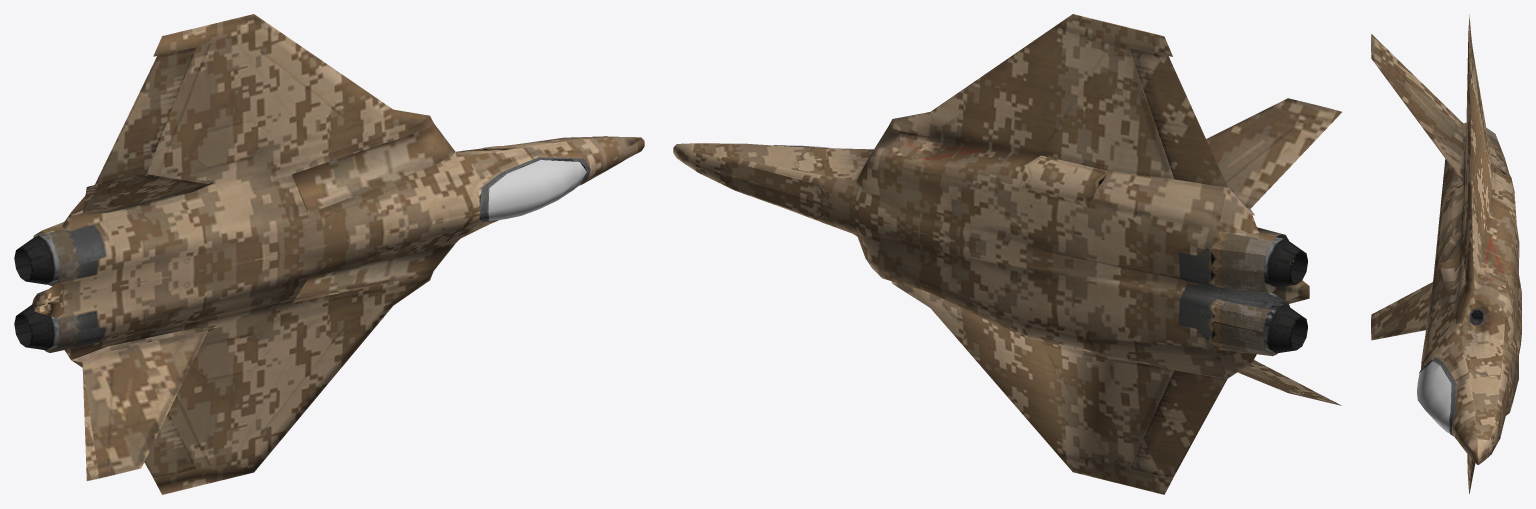
Rendered from veh_t6_air_fa38_killstreak_LOD1.obj.
3 renders of one model, left to right at view 1: azimuth 30°, elevation 25°; view 2: azimuth 150°, elevation 25°; view 3: azimuth 270°, elevation 25°, orthographic. The views are drawn at different scales.
Parts seen in each view (by area): view 1: mtl_veh_t6_air_fa38_body_friendly, mtl_veh_t6_air_fa38_glass_outside_low, mtl_veh_t6_air_fa38_cockpit_low; view 2: mtl_veh_t6_air_fa38_body_friendly; view 3: mtl_veh_t6_air_fa38_body_friendly, mtl_veh_t6_air_fa38_glass_outside_low, mtl_veh_t6_air_fa38_cockpit_low.
Part boxes in pixels (x1,y1,x2,y2): mtl_veh_t6_air_fa38_body_friendly: (14, 14, 644, 494); mtl_veh_t6_air_fa38_glass_outside_low: (488, 160, 586, 220); mtl_veh_t6_air_fa38_cockpit_low: (480, 157, 590, 222); mtl_veh_t6_air_fa38_body_friendly: (673, 14, 1341, 494); mtl_veh_t6_air_fa38_body_friendly: (1371, 14, 1521, 493); mtl_veh_t6_air_fa38_glass_outside_low: (1417, 361, 1451, 433); mtl_veh_t6_air_fa38_cockpit_low: (1419, 357, 1457, 436).
Bounding box in the file's own units: 1506 × 1059 × 330.
